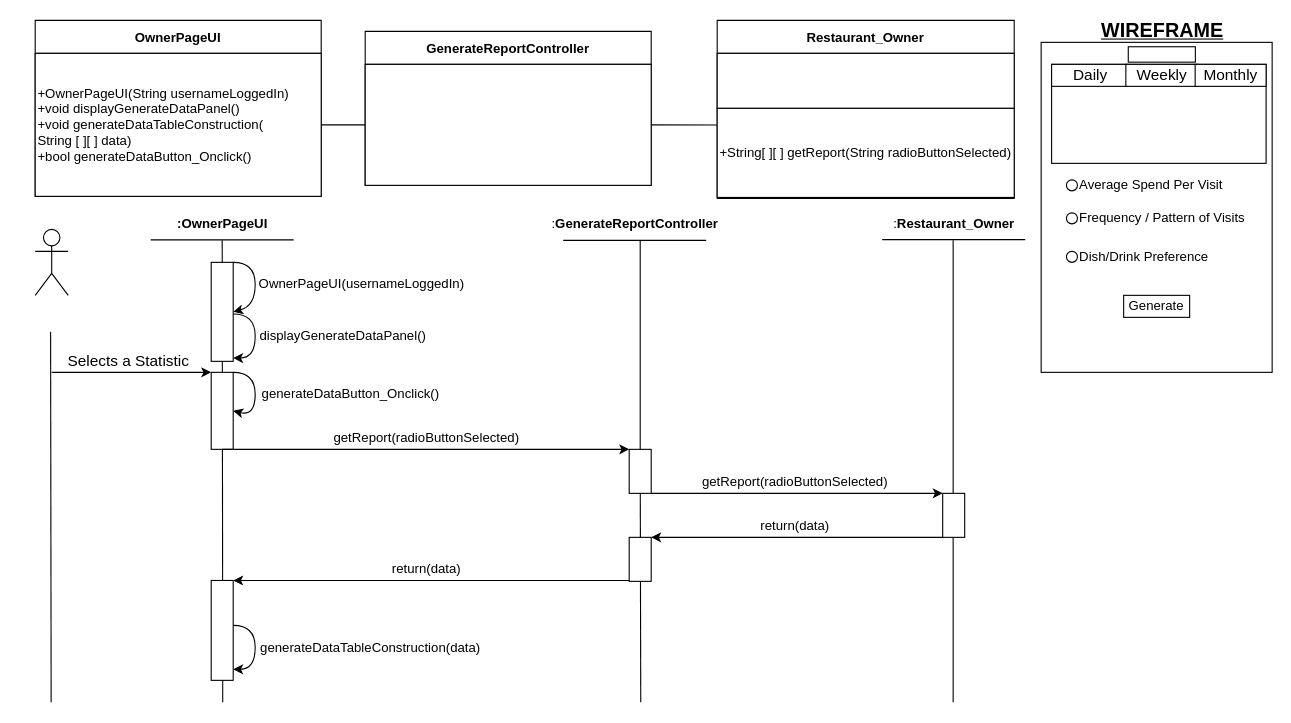
This 1291x723 diagram has some shape labels left out. Here are the shapes that lost their labels. From the top down, the centre of each, then its label:
At point (1161, 54): "Log Out".
At point (865, 80): "-String radioButtonSelected -String[ ][ ] data".
At point (507, 124): "+String[ ] getReport(String radioButtonSelected)".
At point (51, 261): "Restaurant Owner".
